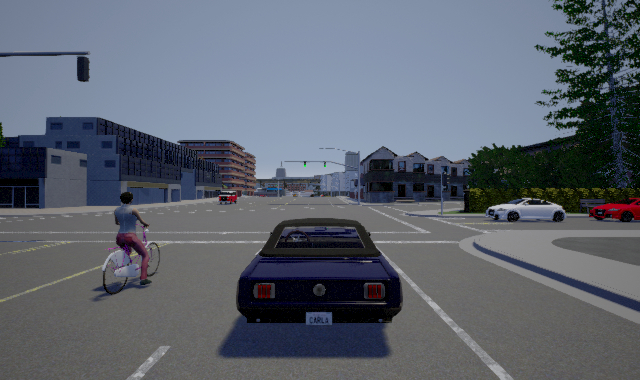bike: (101, 190, 163, 293)
traffic_light: (324, 161, 326, 167), (304, 161, 306, 167)
vehicle: (236, 218, 403, 325), (485, 198, 567, 222), (589, 198, 640, 222), (219, 188, 239, 203)
